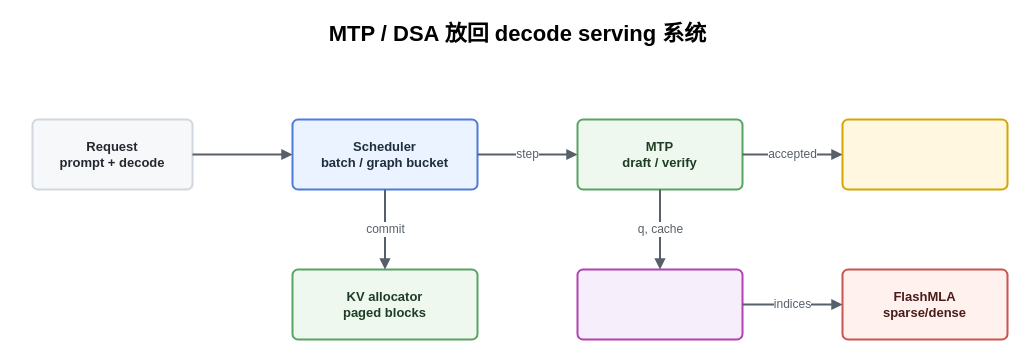
Some shapes in this 1034 by 357 pixel diagram are drawn without their labels. Here are the shapes that lost their labels. From the top down, the centre of each, then its label:
At (x=924, y=154): "Sampler token stream".
At (x=659, y=304): "DSA top-k indices".
